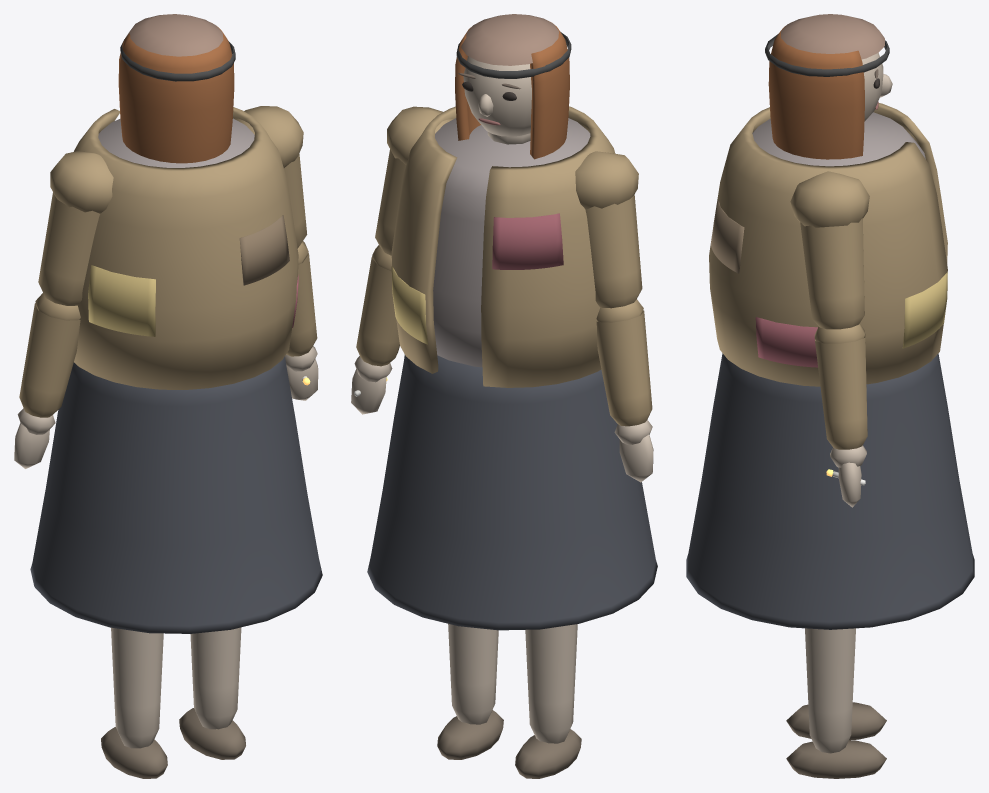
File: rosie.glb
3 views of the same model, side by side, from view 1: azimuth 30°, elevation 25°; view 2: azimuth 150°, elevation 25°; view 3: azimuth 270°, elevation 25° (orthographic).
Parts seen in each view (by area): view 1: skirt, cardigan, hair_length, shin_l, forearm_l, upperarm_l, shin_r, patch_1, hair_crown, deltoid_l, patch_2, torso (+10 smaller); view 2: skirt, cardigan, torso, shin_l, hair_length, upperarm_l, forearm_l, shin_r, hair_crown, patch_0, skull, forearm_r (+12 smaller); view 3: skirt, cardigan, hair_length, upperarm_r, shin_r, forearm_r, deltoid_r, hair_crown, torso, shoe_r, patch_4, patch_3 (+7 smaller).
Part boxes in pixels (x1=…): skirt: x1=30, y1=356, x2=322, y2=633; cardigan: x1=74, y1=107, x2=298, y2=389; hair_length: x1=118, y1=23, x2=234, y2=163; shin_l: x1=111, y1=627, x2=163, y2=748; forearm_l: x1=19, y1=303, x2=80, y2=417; upperarm_l: x1=38, y1=192, x2=99, y2=305; shin_r: x1=190, y1=627, x2=241, y2=729; patch_1: x1=88, y1=265, x2=155, y2=336; hair_crown: x1=125, y1=14, x2=223, y2=56; deltoid_l: x1=50, y1=151, x2=113, y2=213; patch_2: x1=239, y1=215, x2=289, y2=285; torso: x1=98, y1=118, x2=254, y2=167; skirt: x1=367, y1=354, x2=657, y2=630; cardigan: x1=391, y1=106, x2=615, y2=387; torso: x1=433, y1=118, x2=590, y2=367; shin_l: x1=525, y1=624, x2=577, y2=743; hair_length: x1=455, y1=22, x2=569, y2=159; upperarm_l: x1=585, y1=194, x2=642, y2=308; forearm_l: x1=596, y1=310, x2=652, y2=426; shin_r: x1=448, y1=623, x2=498, y2=724; hair_crown: x1=461, y1=14, x2=558, y2=65; patch_0: x1=492, y1=213, x2=563, y2=269; skull: x1=463, y1=56, x2=531, y2=136; forearm_r: x1=356, y1=256, x2=399, y2=366; skirt: x1=686, y1=353, x2=974, y2=629; cardigan: x1=709, y1=103, x2=947, y2=386; hair_length: x1=768, y1=26, x2=864, y2=159; upperarm_r: x1=800, y1=218, x2=864, y2=329; shin_r: x1=805, y1=628, x2=855, y2=753; forearm_r: x1=815, y1=334, x2=867, y2=449; deltoid_r: x1=790, y1=171, x2=869, y2=227; hair_crown: x1=781, y1=14, x2=884, y2=59; torso: x1=752, y1=112, x2=925, y2=166; shoe_r: x1=786, y1=740, x2=886, y2=778; patch_4: x1=755, y1=317, x2=817, y2=367; patch_3: x1=902, y1=272, x2=947, y2=348.
Bounding box in the file's own units: 0.6814 × 1.58 × 0.5642.
